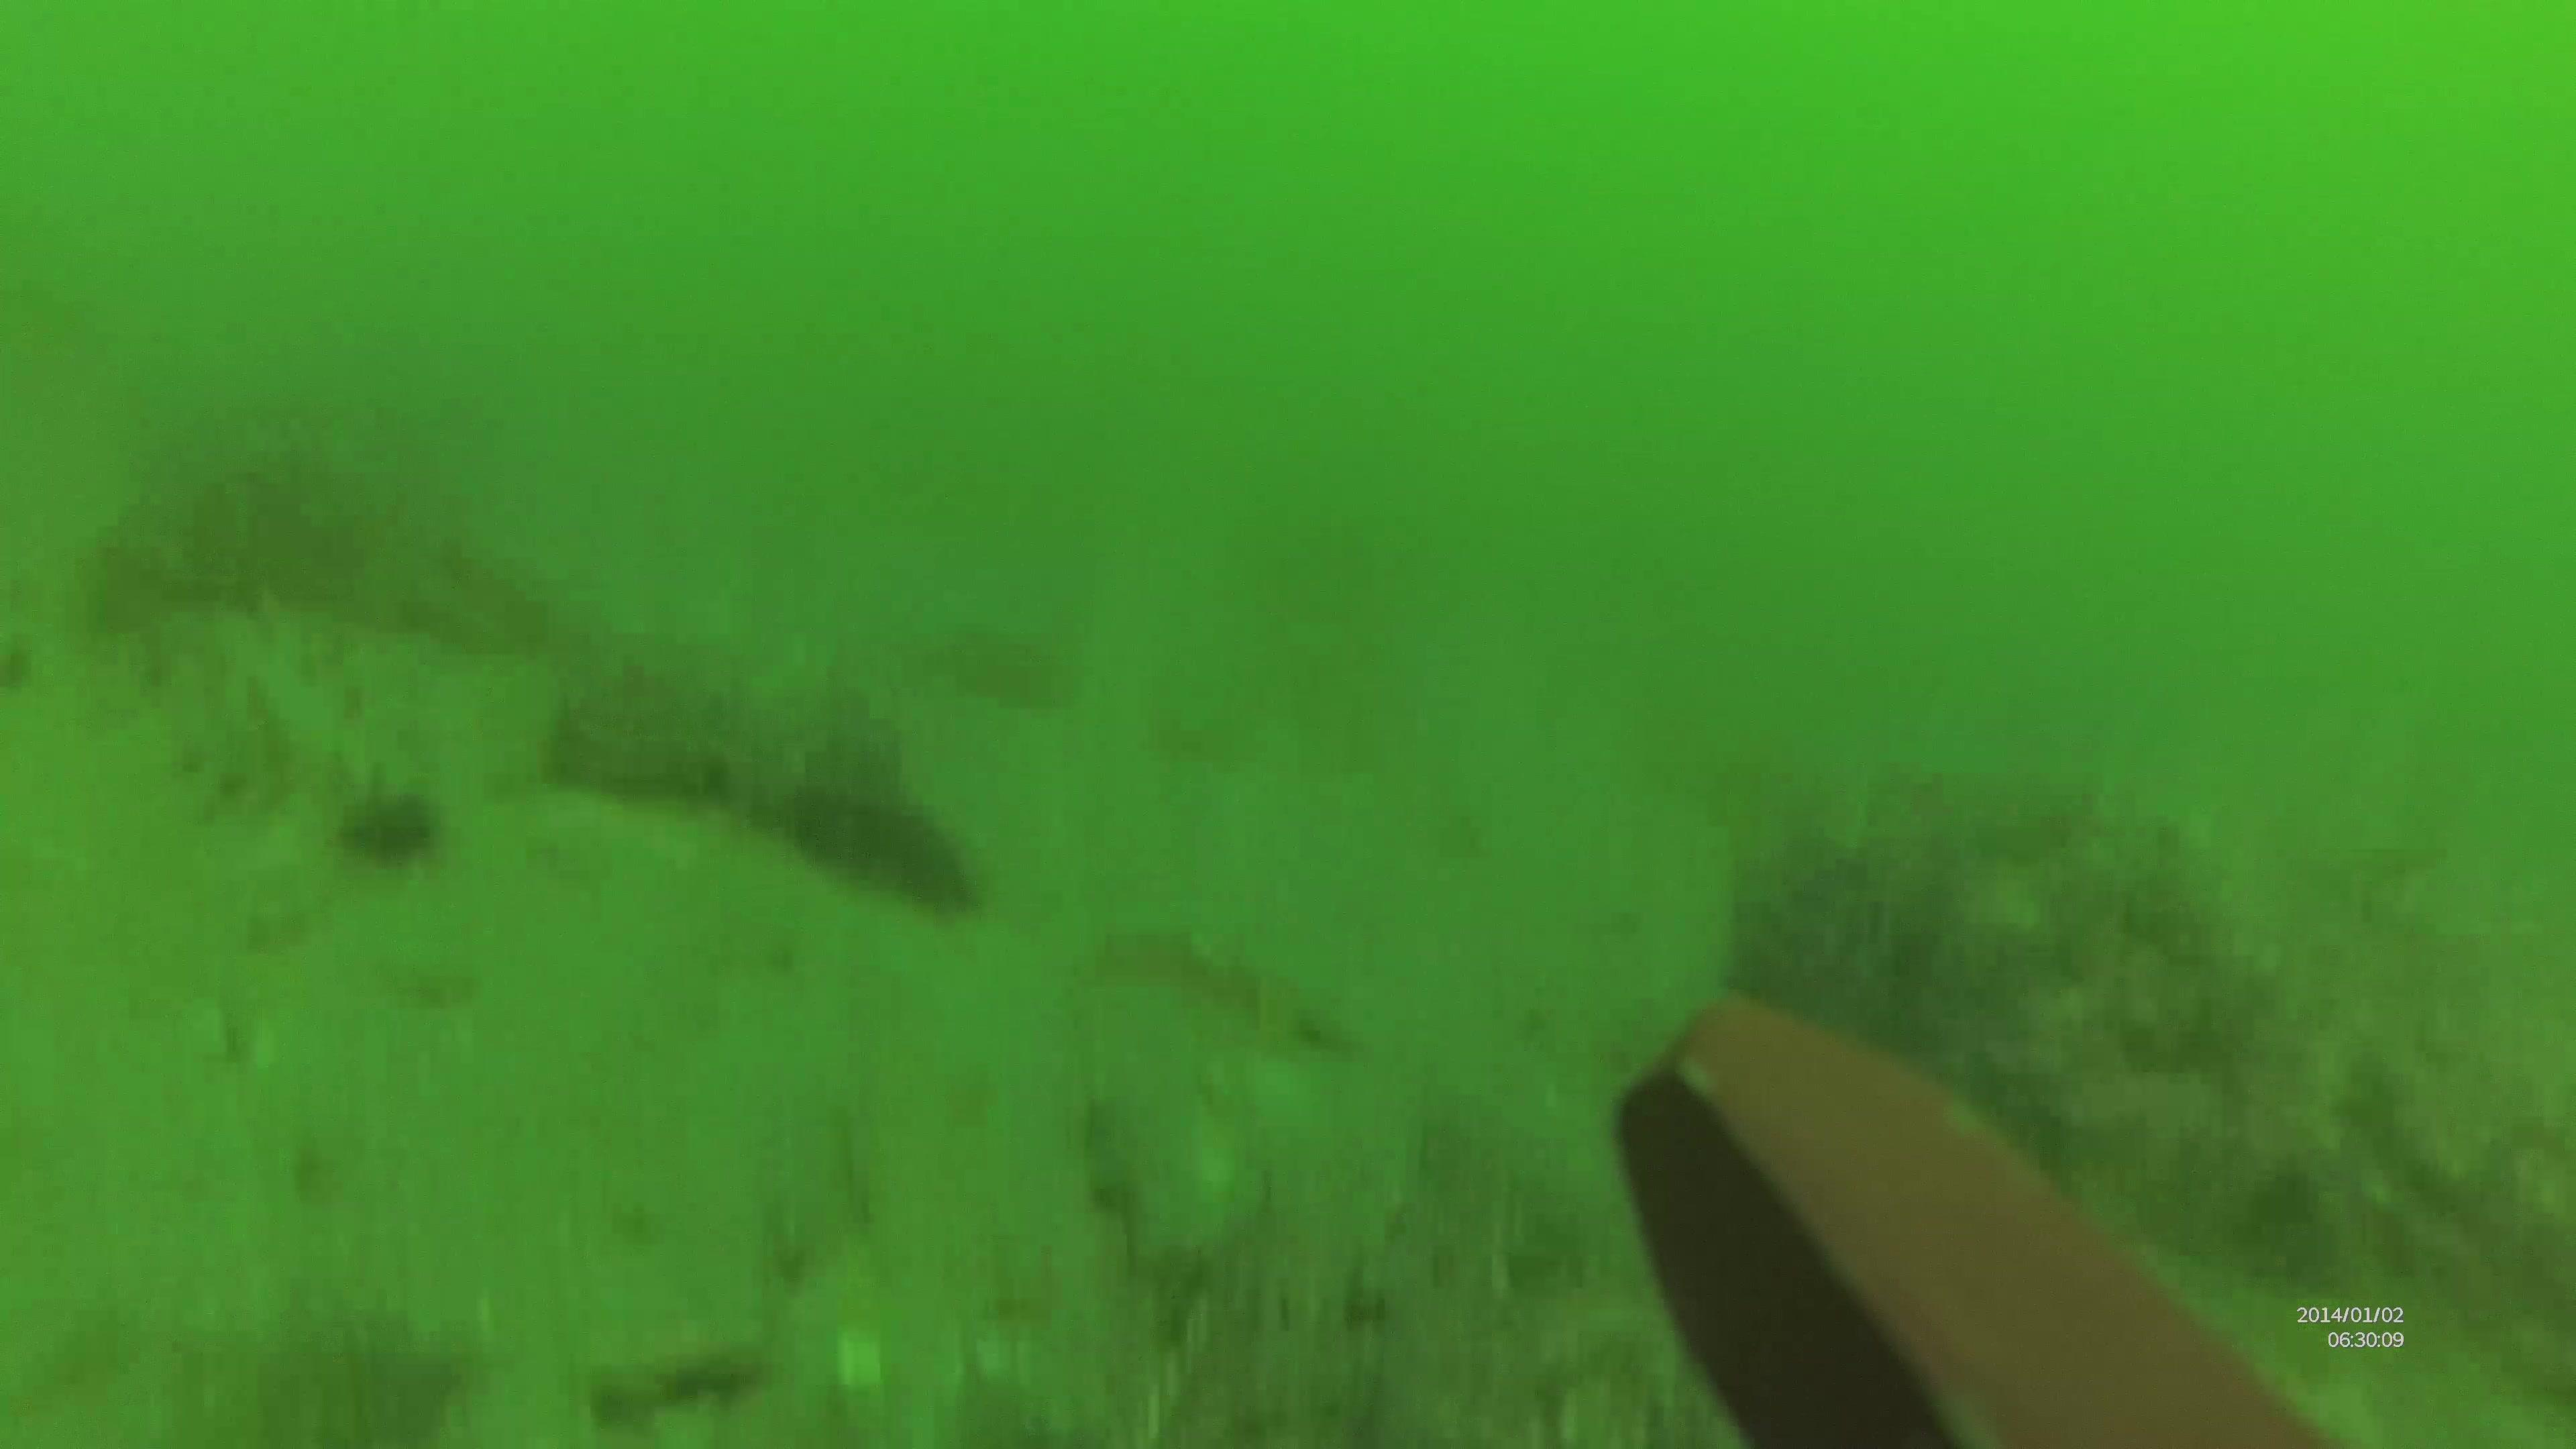holothurian: (142, 600, 435, 867)
